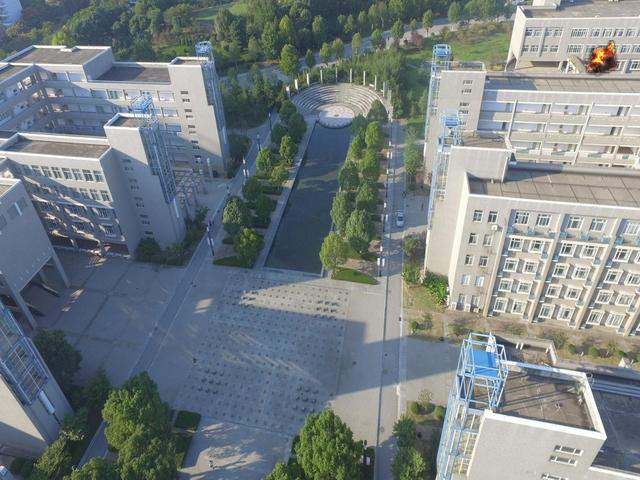fire: (585, 41, 617, 75)
